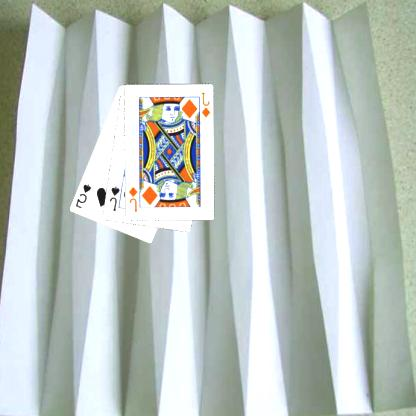5S: (74, 181, 94, 210)
JD: (200, 90, 213, 119), (128, 184, 140, 213)
JS: (108, 184, 122, 212)
